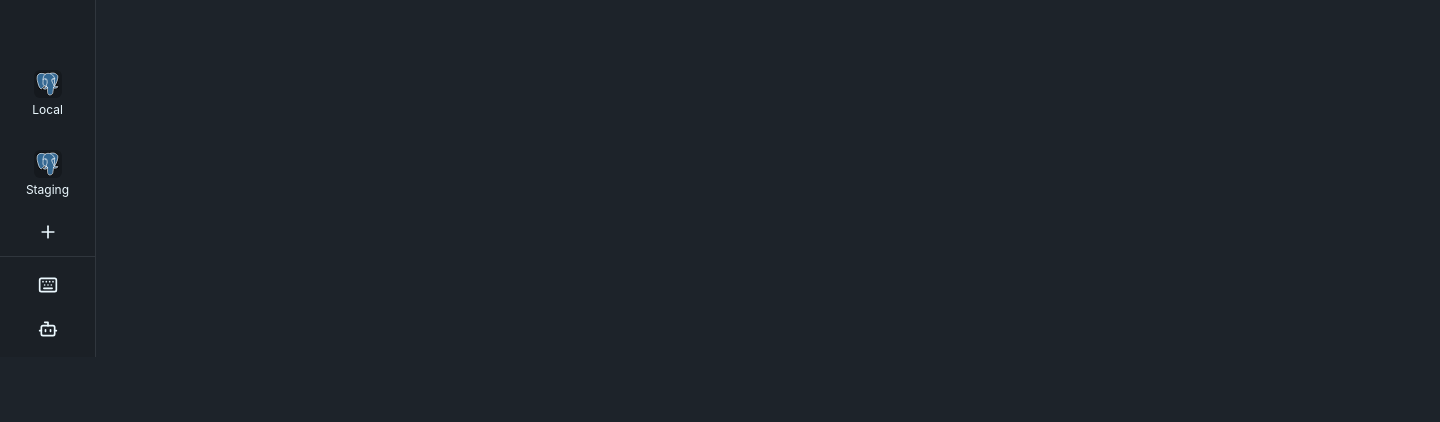
the connection rail › lists what the backend holds, and names the one put in front
expect the button "Local" is shown: met, box [8,56,87,132]
expect the text "Staging" is shown: met, box [26,182,69,197]
Click the button "Staging" at coordinates (48, 174), box [8,136,87,212]
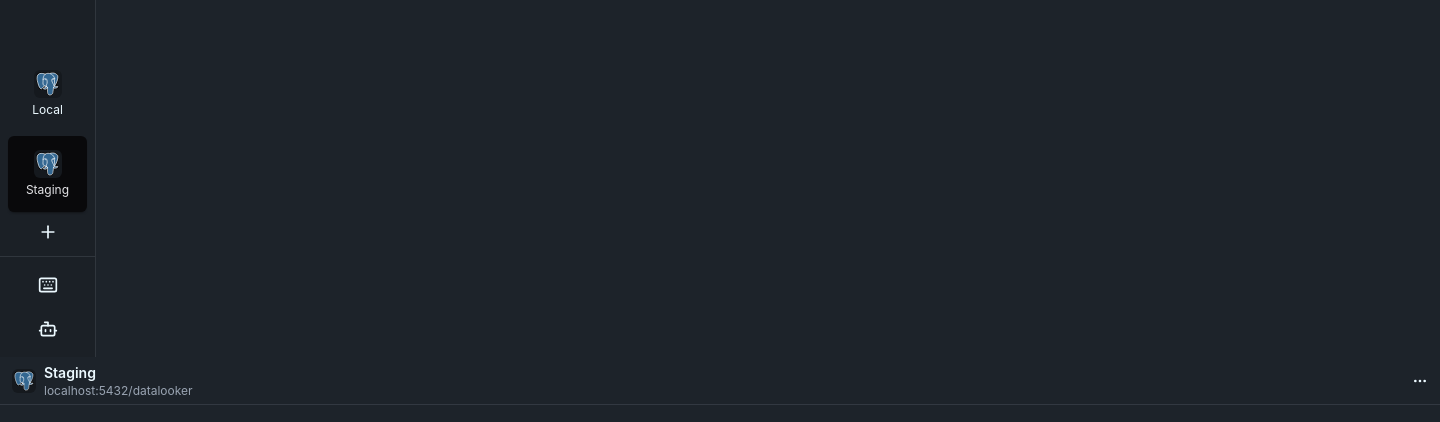
expect the heading "Staging" is shown: met, box [44,362,96,382]
